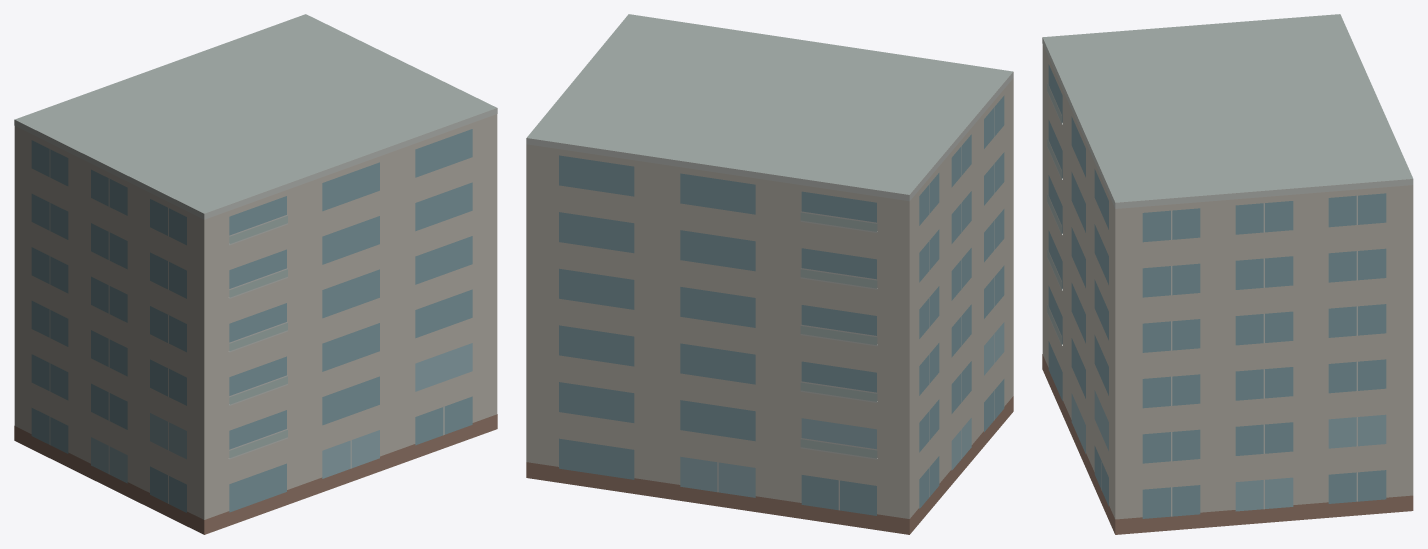
The model's file is survey-upis-32889972.glb.
The picture shows the model from 3 angles, left to right: view 1: azimuth 30°, elevation 25°; view 2: azimuth 150°, elevation 25°; view 3: azimuth 270°, elevation 25°; orthographic projection. The views are drawn at different scales.
Visible parts, largest first — view 1: survey-upis-32889972.tmp; view 2: survey-upis-32889972.tmp; view 3: survey-upis-32889972.tmp.
Boxes of the visible parts, x1,y1,x2,y2 form: survey-upis-32889972.tmp: (14,14,497,534); survey-upis-32889972.tmp: (526,14,1013,534); survey-upis-32889972.tmp: (1042,14,1413,534).
Bounding box in the file's own units: 15.98 × 13.1 × 13.27.
